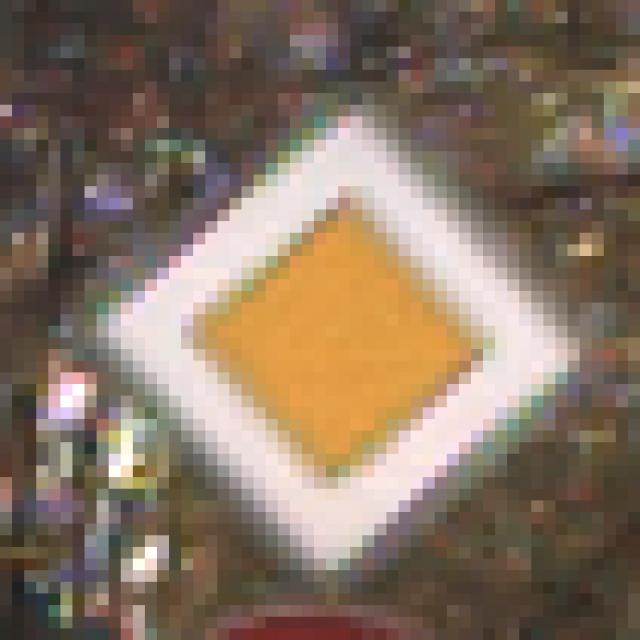Main Road: (74, 71, 581, 583)
